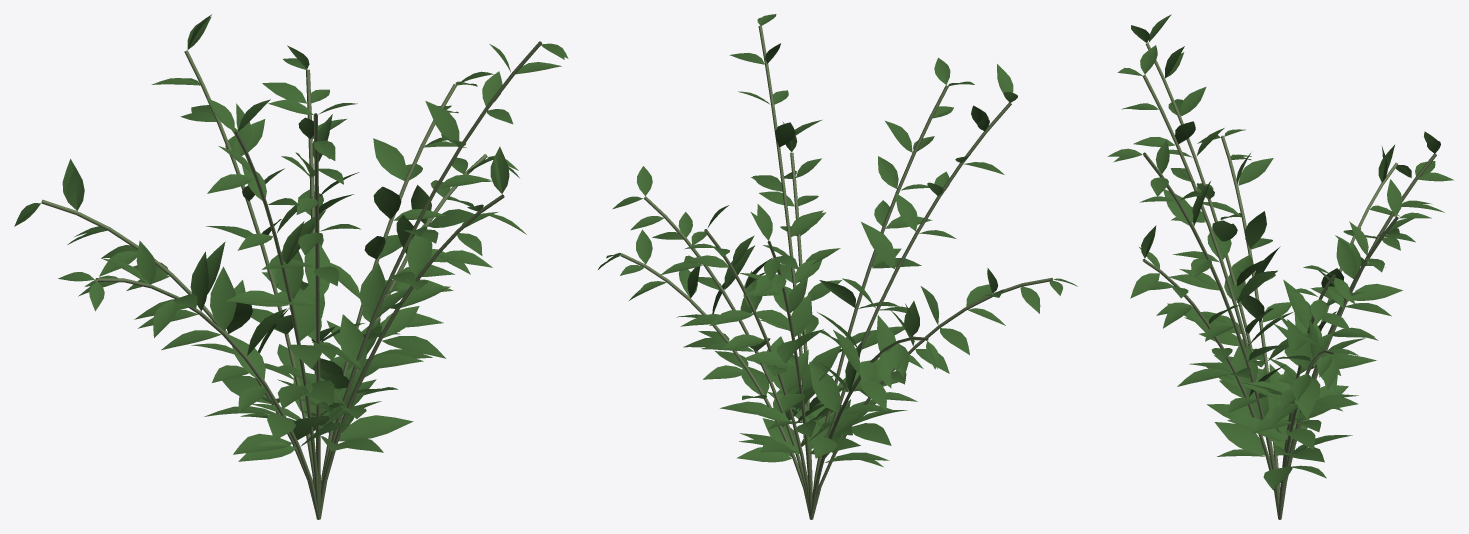
File: ruscus-2.glb
The picture shows the model from 3 angles, left to right: view 1: azimuth 30°, elevation 25°; view 2: azimuth 150°, elevation 25°; view 3: azimuth 270°, elevation 25°; orthographic projection. The views are drawn at different scales.
Parts seen in each view (by area): view 1: ruscus-leaves, ruscus-stems; view 2: ruscus-leaves, ruscus-stems; view 3: ruscus-leaves, ruscus-stems.
Boxes of the visible parts, x1,y1,x2,y2 form: ruscus-leaves: [14, 14, 568, 461]; ruscus-stems: [41, 41, 542, 519]; ruscus-leaves: [598, 14, 1077, 467]; ruscus-stems: [620, 25, 1052, 519]; ruscus-leaves: [1107, 14, 1453, 490]; ruscus-stems: [1142, 43, 1436, 519].
Size of the model in its own units: 0.5662 by 0.5486 by 0.3941.
